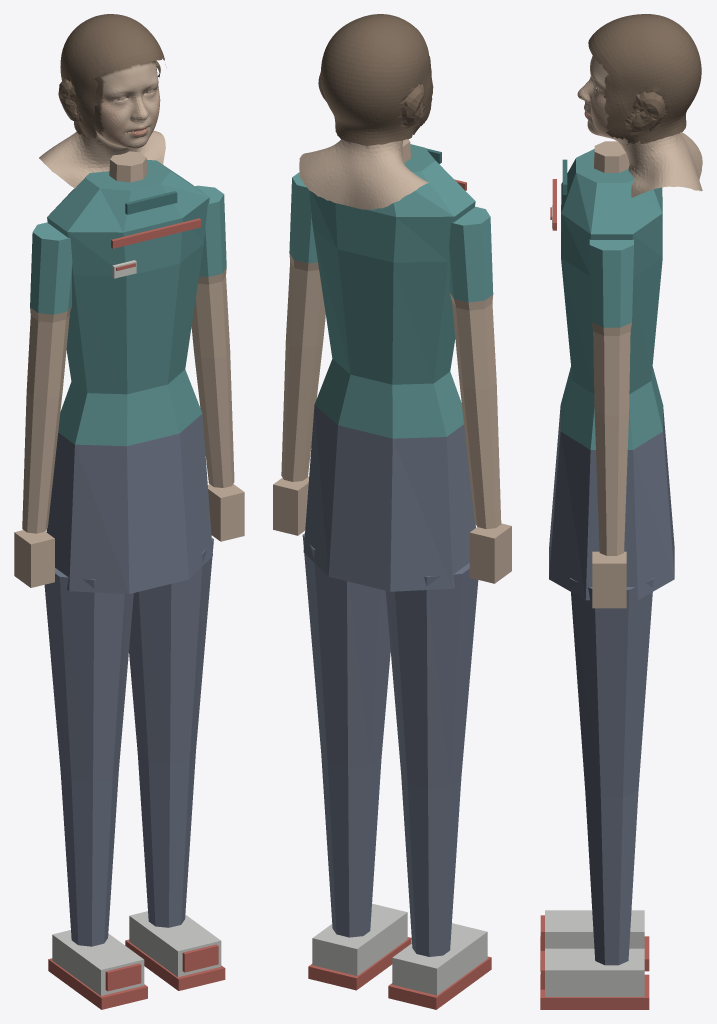
File: sam_miller_gnm.glb
3 views of the same model, side by side, from view 1: azimuth 30°, elevation 25°; view 2: azimuth 150°, elevation 25°; view 3: azimuth 270°, elevation 25° (orthographic). The views are drawn at different scales.
Visible parts, largest first — view 1: sam_miller_portrait; view 2: sam_miller_portrait; view 3: sam_miller_portrait.
Part boxes in pixels (x1,y1,x2,y2): sam_miller_portrait: (14,14,244,1009); sam_miller_portrait: (273,14,511,1009); sam_miller_portrait: (540,14,702,1009).
Bounding box in the file's own units: 0.4397 × 1.84 × 0.2826.
